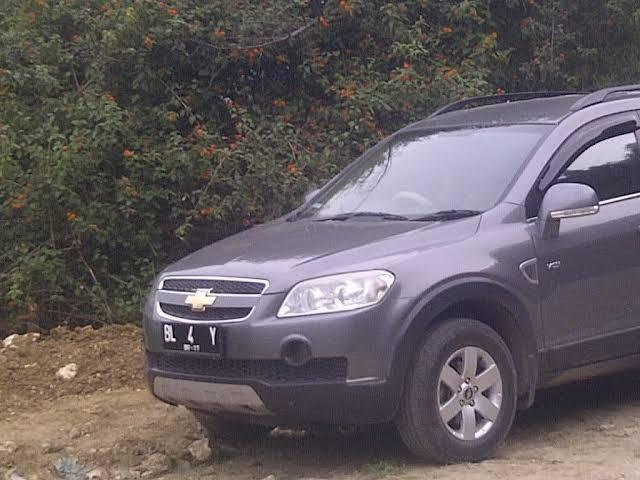plate: (161, 320, 226, 358)
